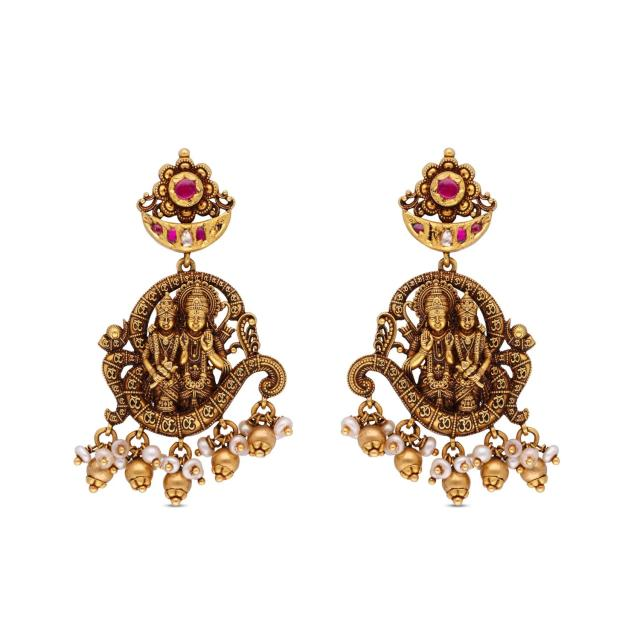missing gem: (213, 220, 225, 233)
